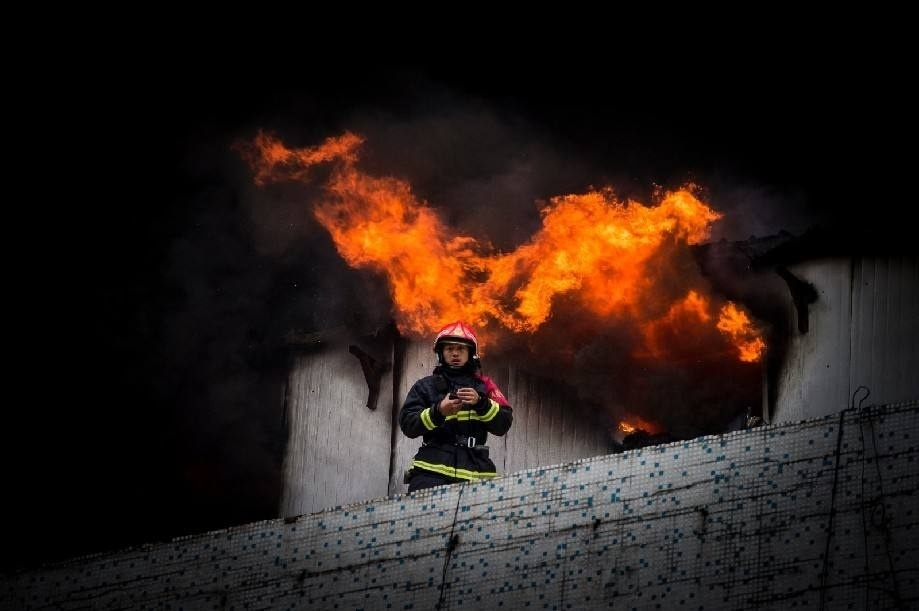fire: (270, 135, 760, 421)
